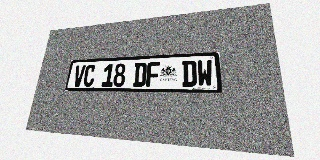1: (101, 64, 115, 87)
8: (113, 63, 127, 87)
C: (82, 65, 96, 87)
D: (182, 60, 197, 87), (133, 62, 147, 87)
F: (146, 62, 160, 87)
V: (72, 65, 86, 87)
W: (197, 59, 213, 87)
